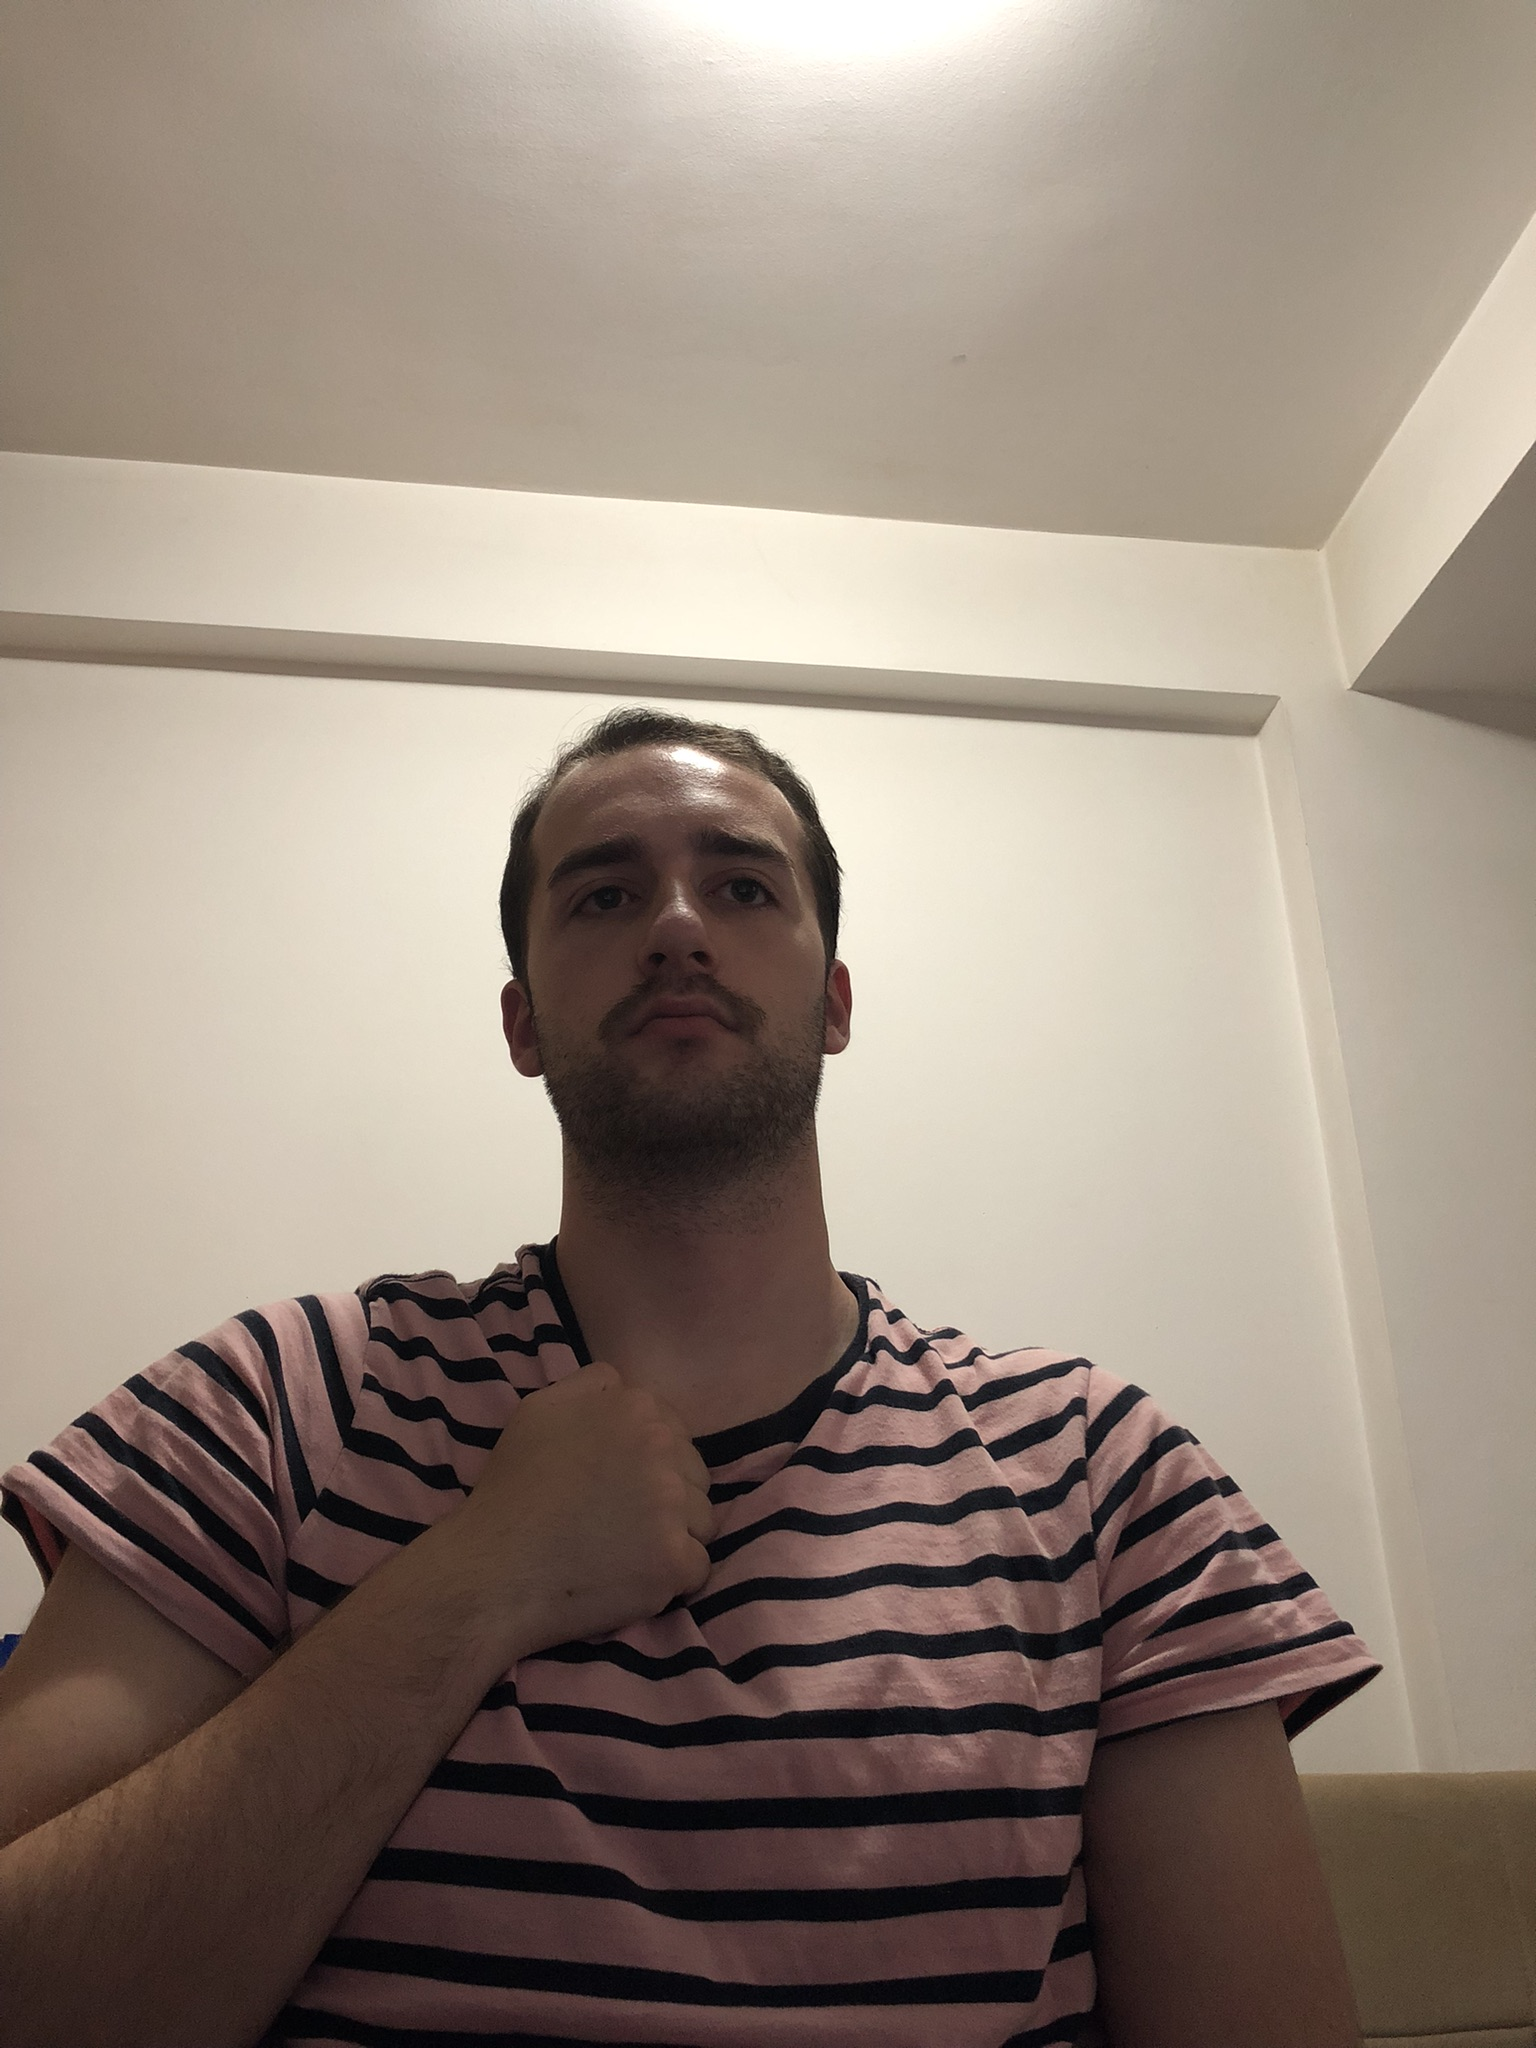Sorry: (10, 1363, 721, 2048)
